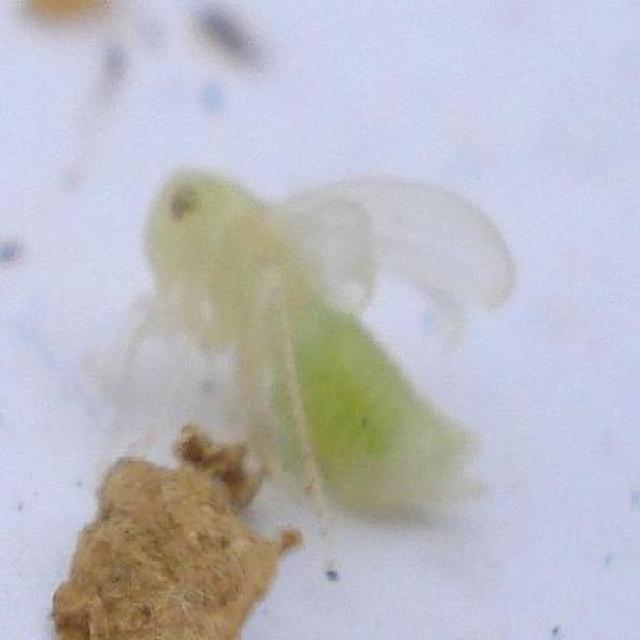green-leafhopper: (142, 168, 482, 543)
